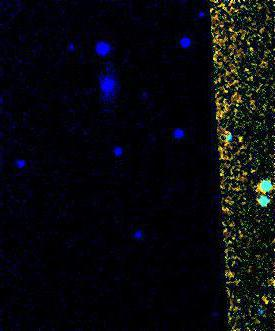star: (226, 127, 256, 157)
